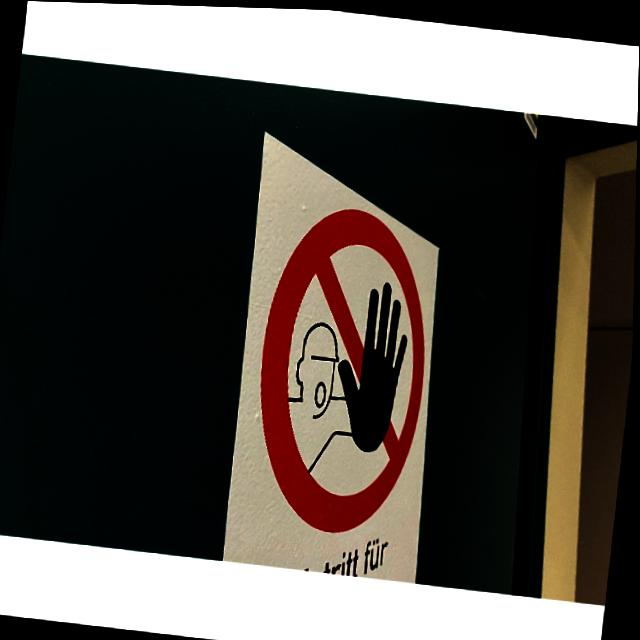No access for unauthorized persons: (245, 197, 441, 538)
